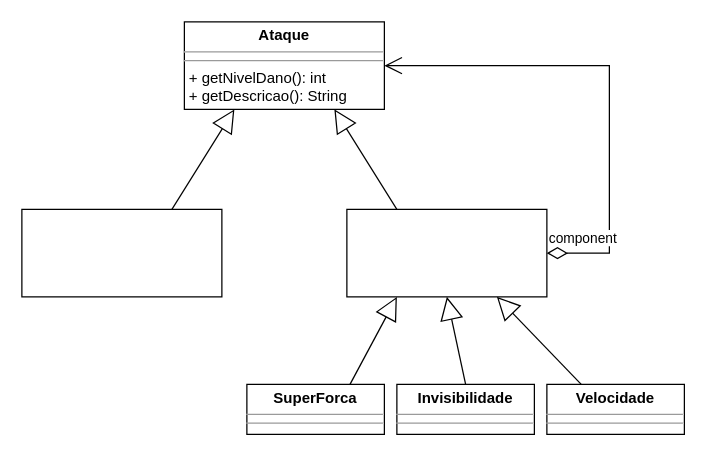
This 706x456 diagram has some shape labels left out. Here are the shapes that lost their labels. From the top down, the centre of each, then its label:
the point at 121,252: AtaqueSimples + getNivelDano(): int + getDescricao(): String
the point at 446,252: AtaqueDecorador + getNivelDano(): int + getDescricao(): String
